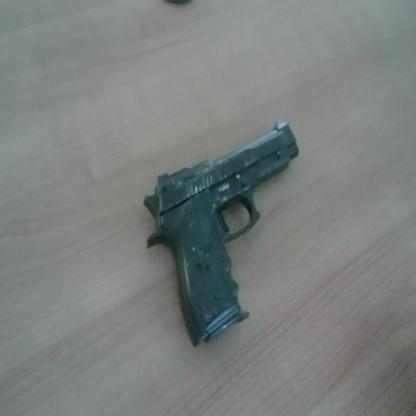handgun: (124, 99, 332, 383)
